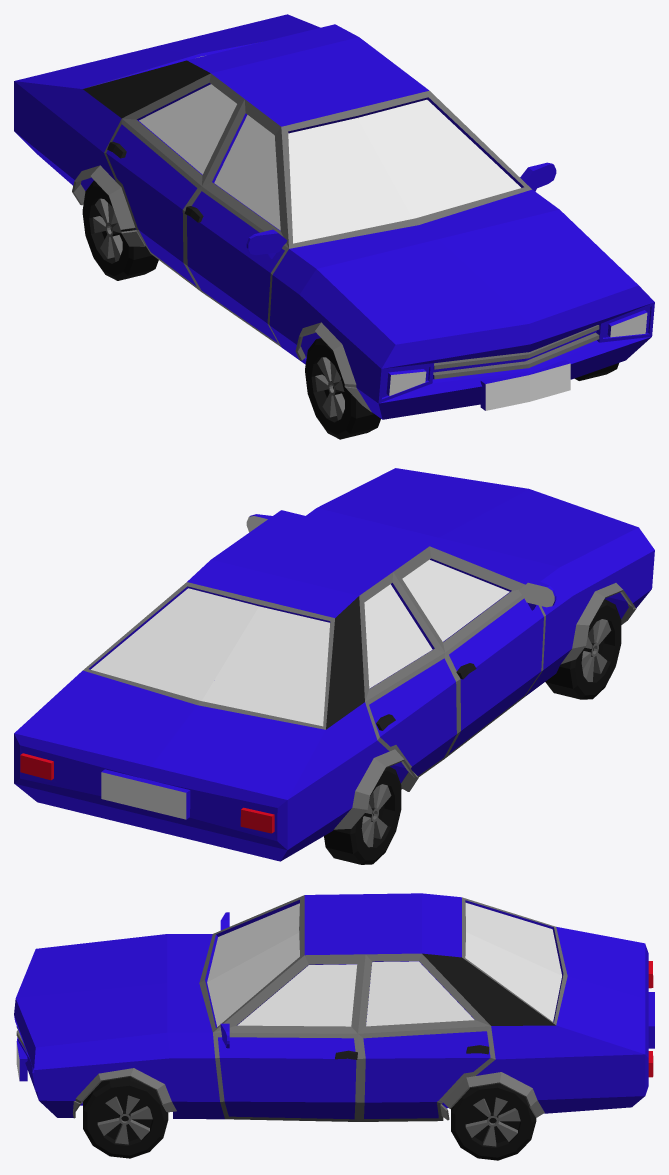
3 views of the same model, one above another, from view 1: azimuth 30°, elevation 25°; view 2: azimuth 150°, elevation 25°; view 3: azimuth 270°, elevation 25° (orthographic). The views are drawn at different scales.
Visible parts, largest first — view 1: Body, F_R_Wheel, R_R_Wheel; view 2: Body, R_R_Wheel, F_R_Wheel; view 3: Body, F_L_Wheel, R_L_Wheel.
Part boxes in pixels (x1,y1,x2,y2): Body: [14, 14, 654, 419]; F_R_Wheel: [305, 338, 380, 439]; R_R_Wheel: [82, 180, 158, 280]; Body: [14, 468, 654, 861]; R_R_Wheel: [324, 766, 401, 864]; F_R_Wheel: [545, 599, 621, 699]; Body: [14, 893, 654, 1121]; F_L_Wheel: [83, 1077, 168, 1158]; R_L_Wheel: [451, 1083, 536, 1160].
Size of the model in its own units: 315 by 216 by 684.
